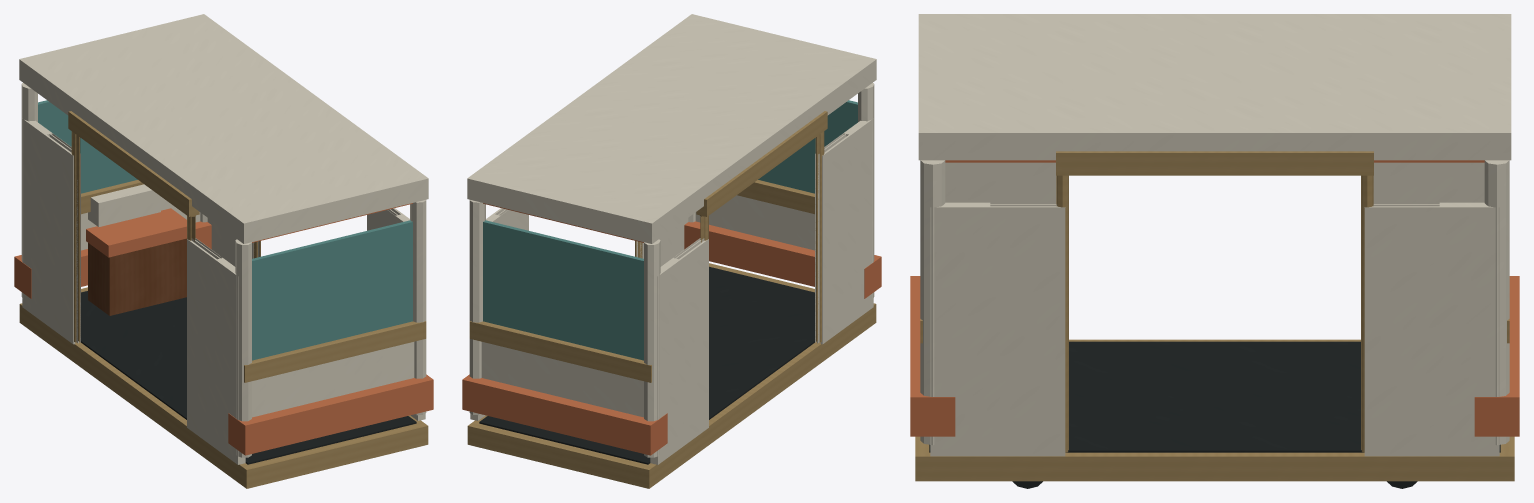
The model's file is AUDIT_AST-TRM-G4-024_powered_portal_body_r001.glb.
3 views of the same model, side by side, from view 1: azimuth 30°, elevation 25°; view 2: azimuth 150°, elevation 25°; view 3: azimuth 270°, elevation 25° (orthographic). The views are drawn at different scales.
Visible parts, largest first — view 1: V2__Tram_Layered_Canopy, V2__Tram_End_Glazing_2.26, V2__Tram_PortPocket_-1.74, V2__Tram_PortPocket_1.74, V2__Tram_AntiSlip_Deck, V2__Tram_Floor, V2__Tram_End_Bumper_2.26, V2__Tram_End_Guard_2.26, V2__Tram_Operator_Perch, V2__Tram_End_Sill_2.26, V2__Tram_Operator_Pad, V2__Tram_Corner_(-1.25, 2.26) (+11 smaller); view 2: V2__Tram_Layered_Canopy, V2__Tram_End_Glazing_-2.26, V2__Tram_AntiSlip_Deck, V2__Tram_PortPocket_1.74, V2__Tram_Floor, V2__Tram_PortPocket_-1.74, V2__Tram_End_Bumper_-2.26, V2__Tram_End_Guard_-2.26, V2__Tram_End_Bumper_2.26, V2__Tram_End_Sill_-2.26, V2__Tram_End_Guard_2.26, V2__Tram_Corner_(-1.25, -2.26) (+8 smaller); view 3: V2__Tram_Layered_Canopy, V2_Starboard__Tram_PortPocket_-1.74, V2_Starboard__Tram_PortPocket_1.74, V2__Tram_AntiSlip_Deck, V2__Tram_Floor, V2_Starboard__Tram_Port_Header, V2__Tram_PortPocket_-1.74, V2__Tram_PortPocket_1.74, V2__Tram_Corner_(1.25, -2.26), V2__Tram_Corner_(1.25, 2.26), V2__Tram_End_Bumper_-2.26, V2__Tram_End_Bumper_2.26 (+3 smaller).
Boxes of the visible parts, bbox=[...] form: V2__Tram_Layered_Canopy: bbox=[19, 14, 428, 243]; V2__Tram_End_Glazing_2.26: bbox=[252, 220, 412, 360]; V2__Tram_PortPocket_-1.74: bbox=[22, 118, 80, 344]; V2__Tram_PortPocket_1.74: bbox=[187, 238, 245, 464]; V2__Tram_AntiSlip_Deck: bbox=[81, 291, 416, 464]; V2__Tram_Floor: bbox=[19, 287, 428, 488]; V2__Tram_End_Bumper_2.26: bbox=[228, 374, 433, 455]; V2__Tram_End_Guard_2.26: bbox=[252, 342, 414, 417]; V2__Tram_Operator_Perch: bbox=[88, 238, 186, 315]; V2__Tram_End_Sill_2.26: bbox=[244, 321, 426, 382]; V2__Tram_Operator_Pad: bbox=[86, 208, 186, 257]; V2__Tram_Corner_(-1.25, 2.26): bbox=[235, 239, 251, 457]; V2__Tram_Layered_Canopy: bbox=[467, 14, 876, 243]; V2__Tram_End_Glazing_-2.26: bbox=[483, 220, 643, 360]; V2__Tram_AntiSlip_Deck: bbox=[479, 266, 814, 464]; V2__Tram_PortPocket_1.74: bbox=[815, 118, 873, 344]; V2__Tram_Floor: bbox=[467, 263, 876, 488]; V2__Tram_PortPocket_-1.74: bbox=[650, 238, 708, 464]; V2__Tram_End_Bumper_-2.26: bbox=[462, 374, 667, 455]; V2__Tram_End_Guard_-2.26: bbox=[481, 342, 643, 417]; V2__Tram_End_Bumper_2.26: bbox=[684, 221, 881, 298]; V2__Tram_End_Sill_-2.26: bbox=[469, 321, 651, 382]; V2__Tram_End_Guard_2.26: bbox=[695, 195, 814, 250]; V2__Tram_Corner_(-1.25, -2.26): bbox=[644, 239, 660, 457]; V2__Tram_Layered_Canopy: bbox=[918, 14, 1511, 160]; V2_Starboard__Tram_PortPocket_-1.74: bbox=[1364, 202, 1499, 456]; V2_Starboard__Tram_PortPocket_1.74: bbox=[930, 202, 1065, 456]; V2__Tram_AntiSlip_Deck: bbox=[929, 341, 1500, 452]; V2__Tram_Floor: bbox=[915, 339, 1514, 481]; V2_Starboard__Tram_Port_Header: bbox=[1056, 151, 1373, 175]; V2__Tram_PortPocket_-1.74: bbox=[1373, 162, 1484, 202]; V2__Tram_PortPocket_1.74: bbox=[945, 162, 1056, 202]; V2__Tram_Corner_(1.25, -2.26): bbox=[1484, 160, 1509, 445]; V2__Tram_Corner_(1.25, 2.26): bbox=[920, 160, 945, 445]; V2__Tram_End_Bumper_-2.26: bbox=[1474, 276, 1519, 436]; V2__Tram_End_Bumper_2.26: bbox=[910, 276, 955, 436].
Bounding box in the file's own units: 2.33 × 3.23 × 4.88.
Materials: 6 (4 with a texture image).
